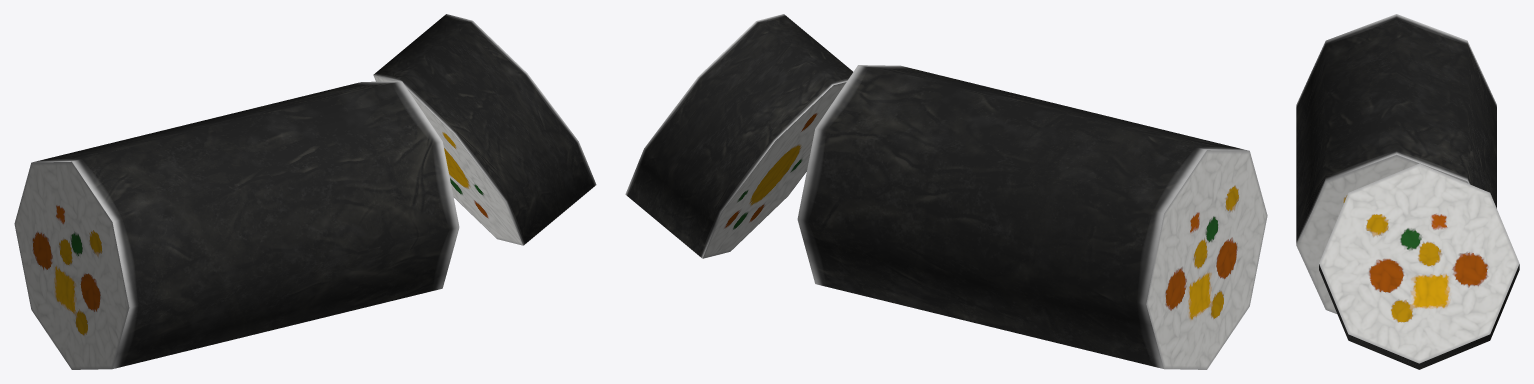
File: gimbob2.fbx
The picture shows the model from 3 angles, left to right: view 1: azimuth 30°, elevation 25°; view 2: azimuth 150°, elevation 25°; view 3: azimuth 270°, elevation 25°; orthographic projection. The views are drawn at different scales.
Visible parts, largest first — view 1: Cylinder.006; view 2: Cylinder.006; view 3: Cylinder.006.
Boxes of the visible parts, x1,y1,x2,y2 form: Cylinder.006: (14, 14, 596, 369); Cylinder.006: (625, 14, 1267, 369); Cylinder.006: (1296, 14, 1519, 369).
Size of the model in its own units: 11.7 by 5.22 by 5.07.
